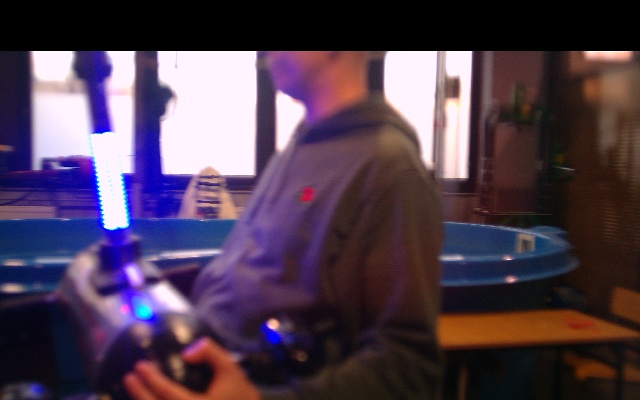blue: (89, 133, 131, 229)
